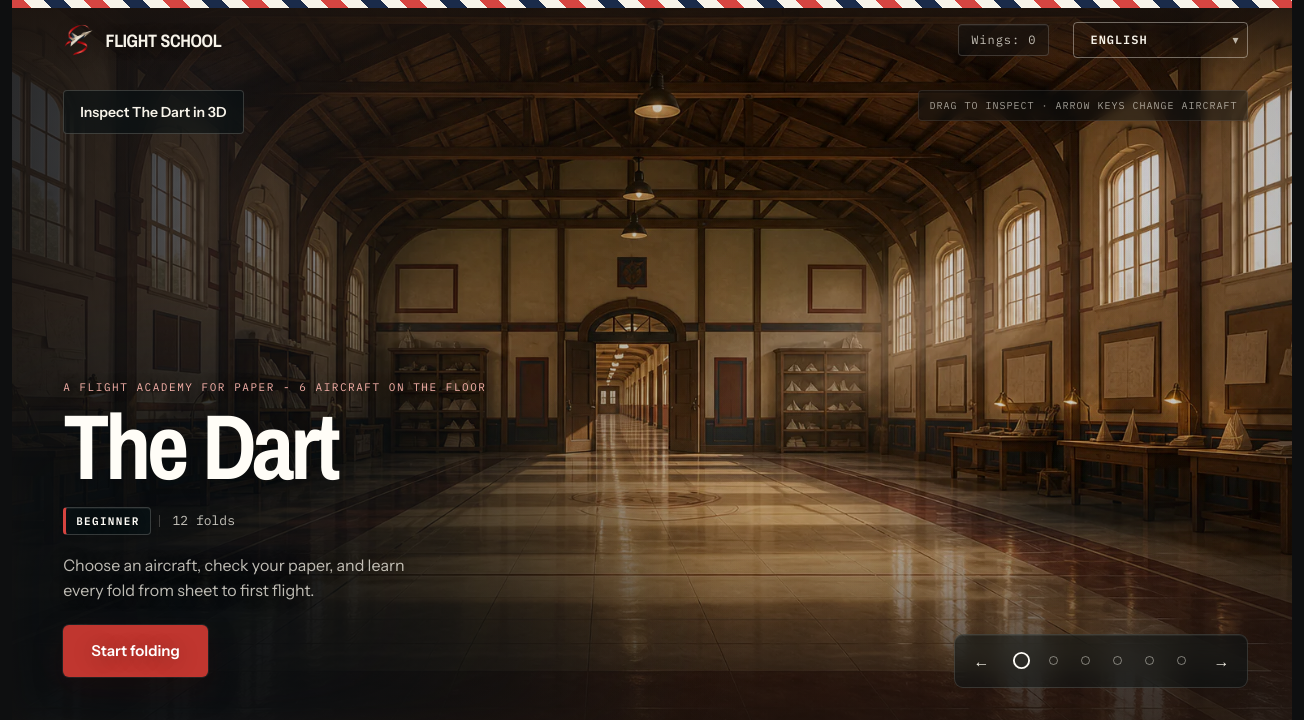
the Hangar bay › wraps at both ends, so the fleet is a ring rather than a queue
This screenshot has width=1304, height=720.
Click the button with test id "hangar-prev": x=982, y=661 [960,640,1002,682]
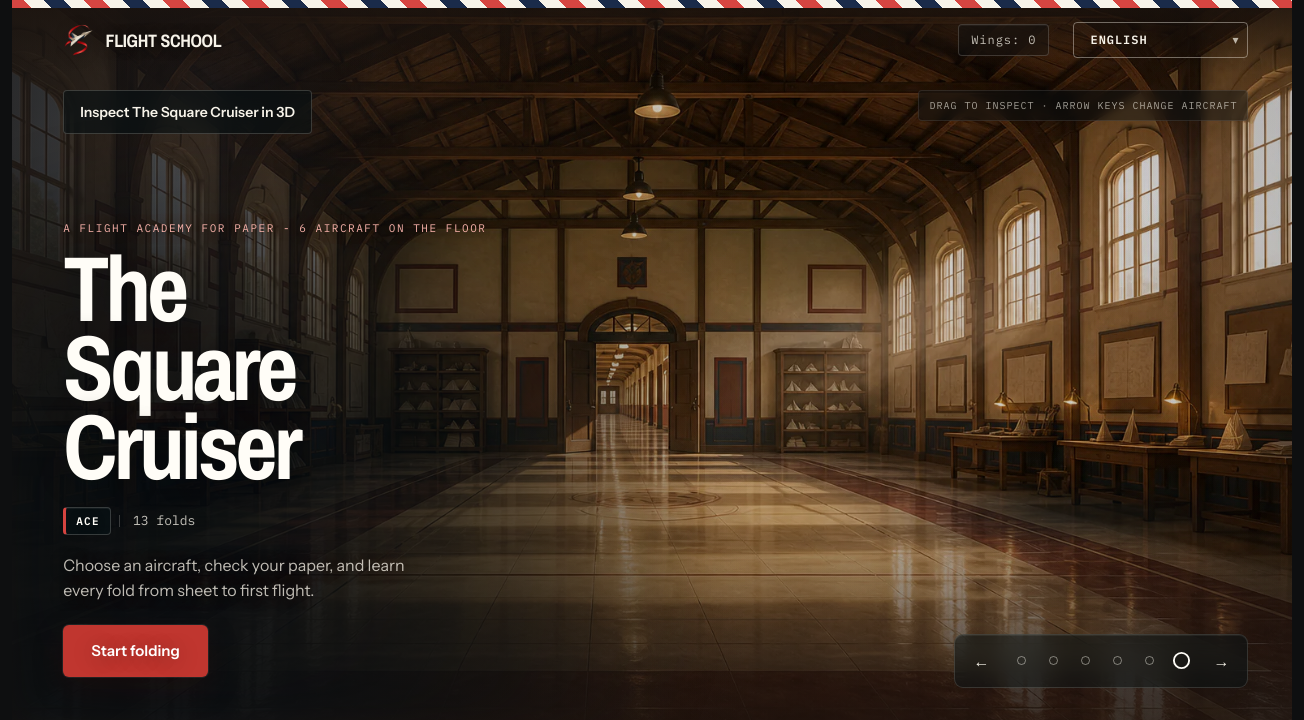
expect the heading reads "The Square Cruiser": met, box [63,226,299,508]
Click the button with test id "hangar-next": x=1222, y=661 [1200,640,1242,682]
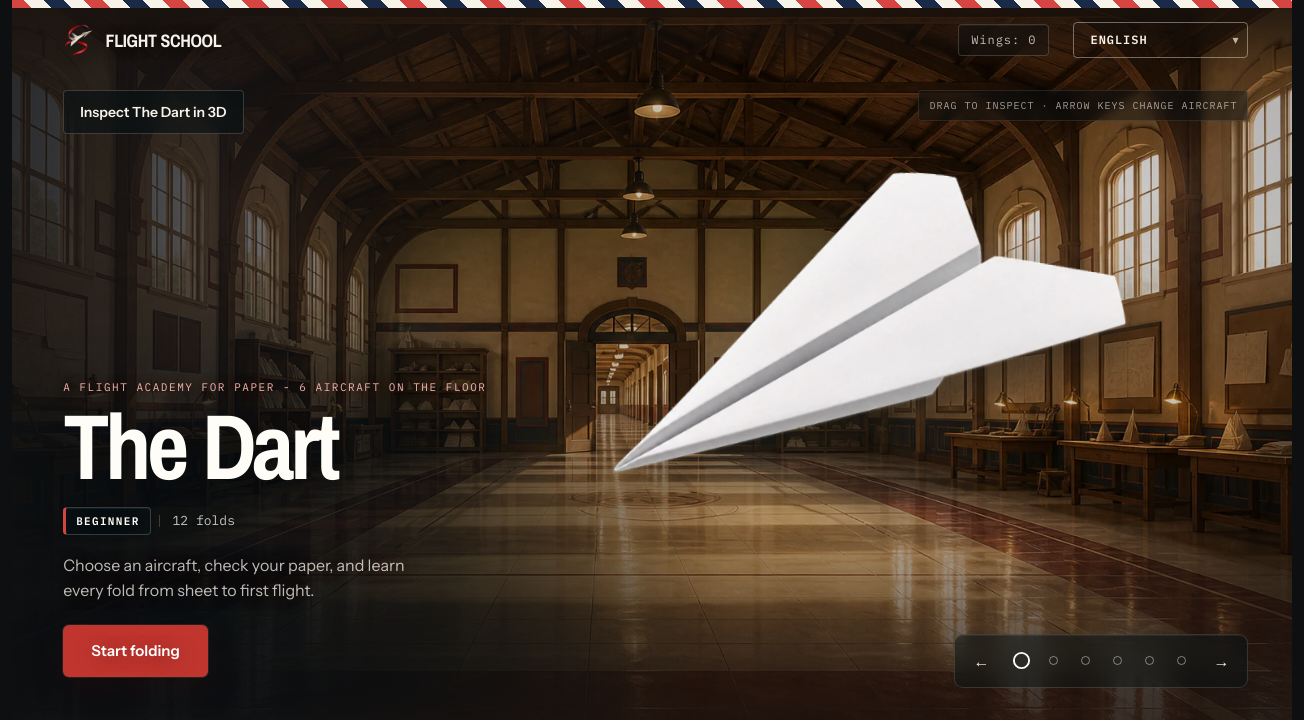
expect the heading reads "The Dart": met, box [63,384,336,508]
